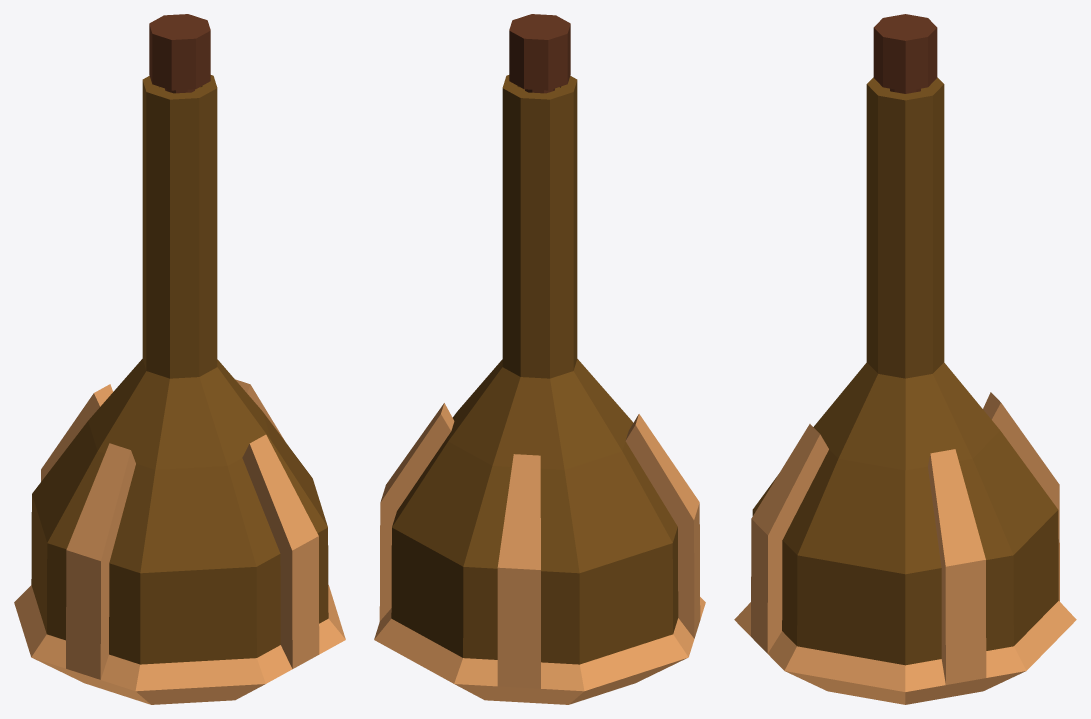
Rendered from potion_orange.glb.
The picture shows the model from 3 angles, left to right: view 1: azimuth 30°, elevation 25°; view 2: azimuth 150°, elevation 25°; view 3: azimuth 270°, elevation 25°; orthographic projection.
Parts seen in each view (by area): view 1: Potion; view 2: Potion; view 3: Potion.
Part boxes in pixels (bbox=[...]): Potion: bbox=[14, 14, 345, 704]; Potion: bbox=[374, 14, 705, 704]; Potion: bbox=[734, 14, 1076, 704].
Size of the model in its own units: 0.5738 by 1.17 by 0.5738.
